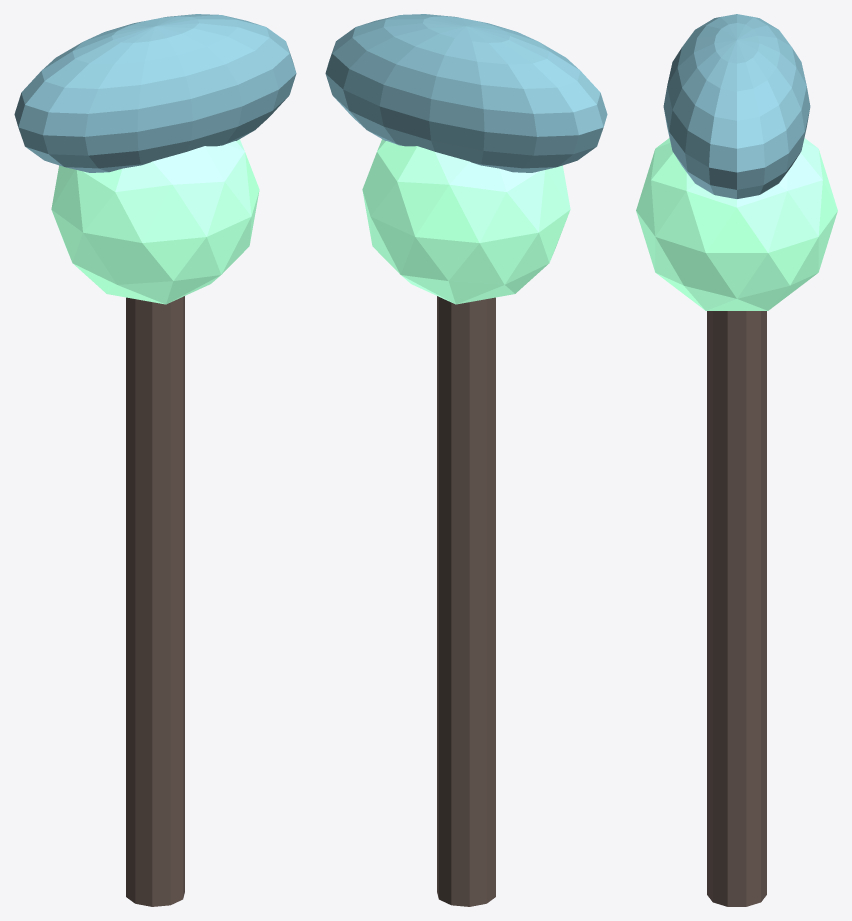
File: mooncap-wand.glb
3 renders of one model, left to right at view 1: azimuth 30°, elevation 25°; view 2: azimuth 150°, elevation 25°; view 3: azimuth 270°, elevation 25°, orthographic.
Parts seen in each view (by area): view 1: WandShaft, WandMoonCap, WandCore; view 2: WandShaft, WandMoonCap, WandCore; view 3: WandShaft, WandCore, WandMoonCap.
Part boxes in pixels (left/top/right/bottom): WandShaft: left=126, top=296, right=184, bottom=906; WandMoonCap: left=14, top=14, right=296, bottom=172; WandCore: left=51, top=139, right=259, bottom=304; WandShaft: left=437, top=296, right=495, bottom=906; WandMoonCap: left=325, top=14, right=607, bottom=172; WandCore: left=362, top=139, right=570, bottom=304; WandShaft: left=707, top=311, right=766, bottom=906; WandCore: left=636, top=138, right=837, bottom=310; WandMoonCap: left=663, top=14, right=810, bottom=198.
Size of the model in its own units: 0.68 by 2.05 by 0.44.
